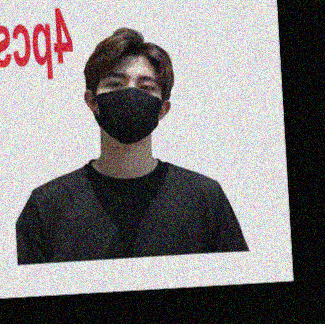with_mask: (95, 66, 162, 144)
